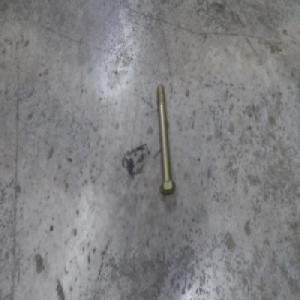Bolt: (154, 83, 176, 196)
